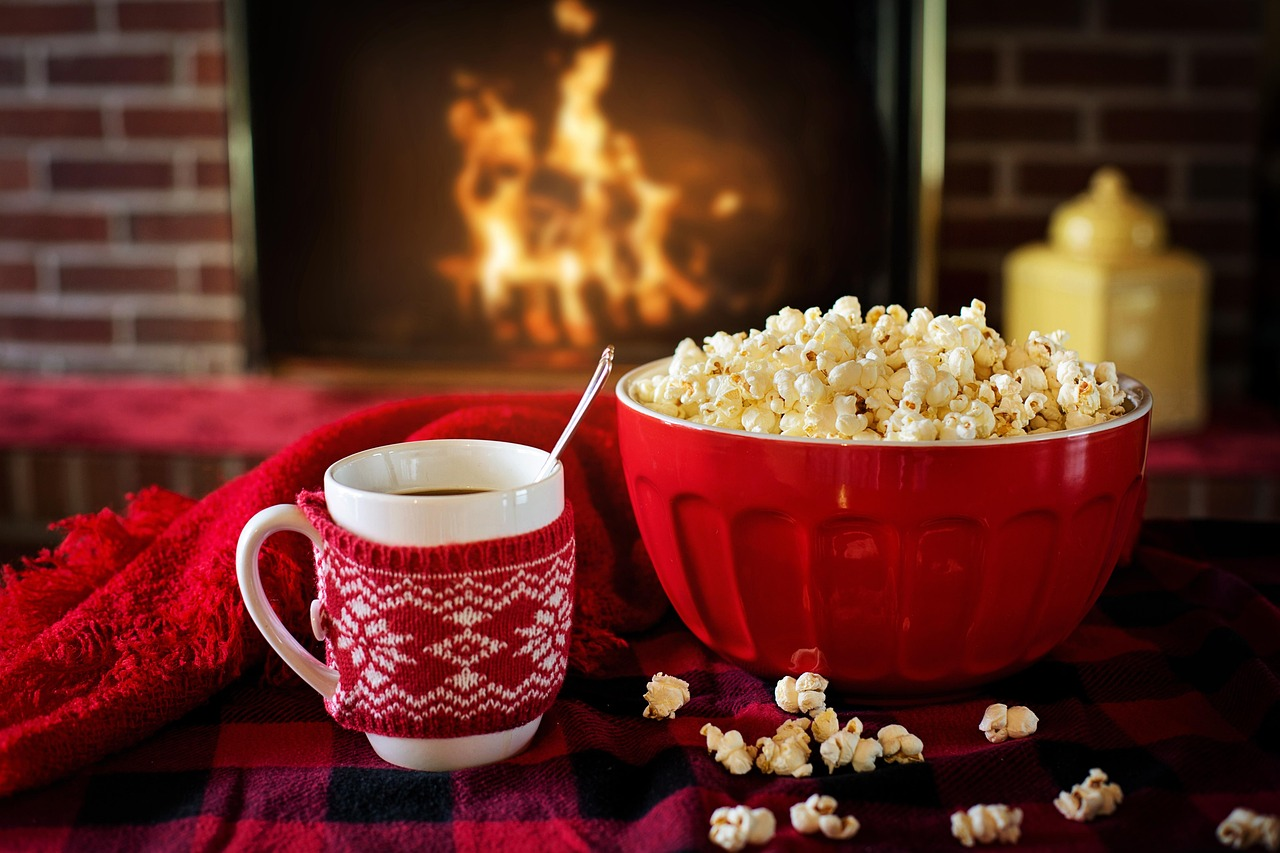mug: (199, 410, 628, 780)
